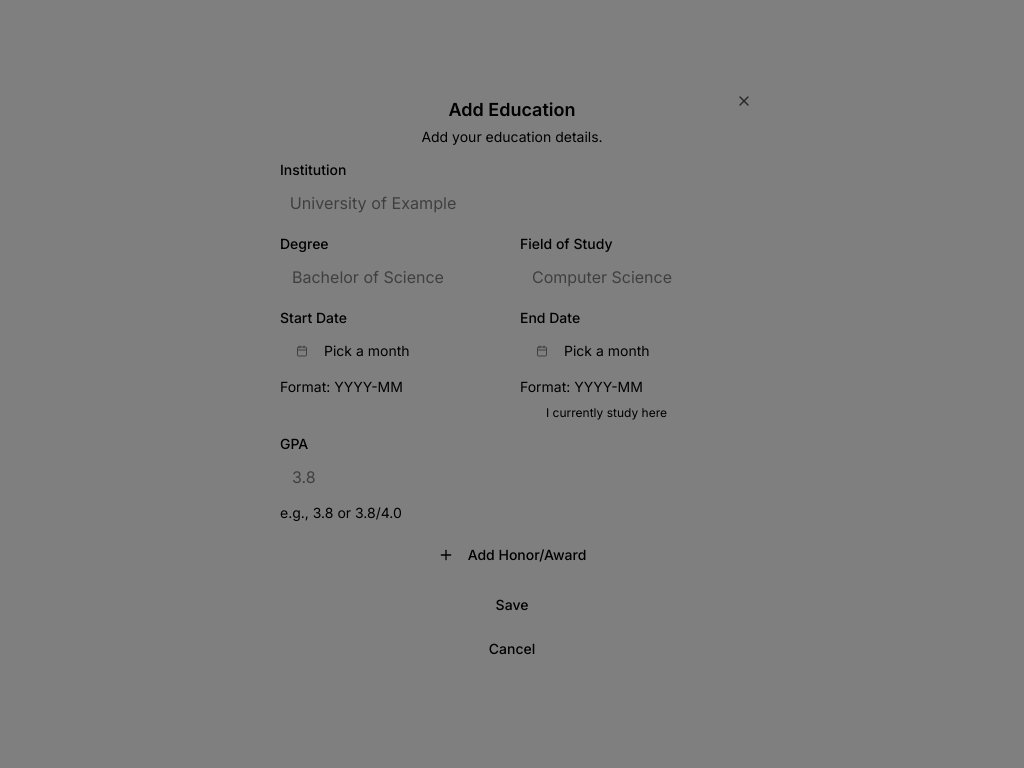
EducationFormDialog › Honors Management › allows adding multiple honors
Click the button "Add Honor/Award" at (512, 555), box [280, 539, 744, 571]
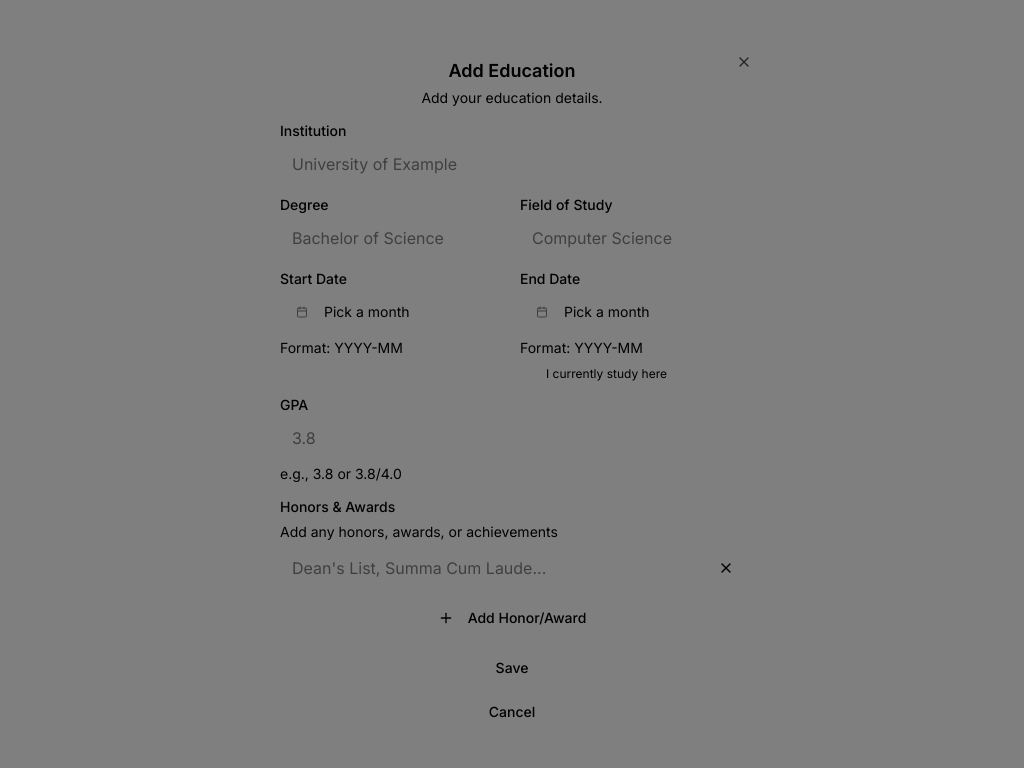
Click the button "Add Honor/Award" at (512, 618), box [280, 602, 744, 634]
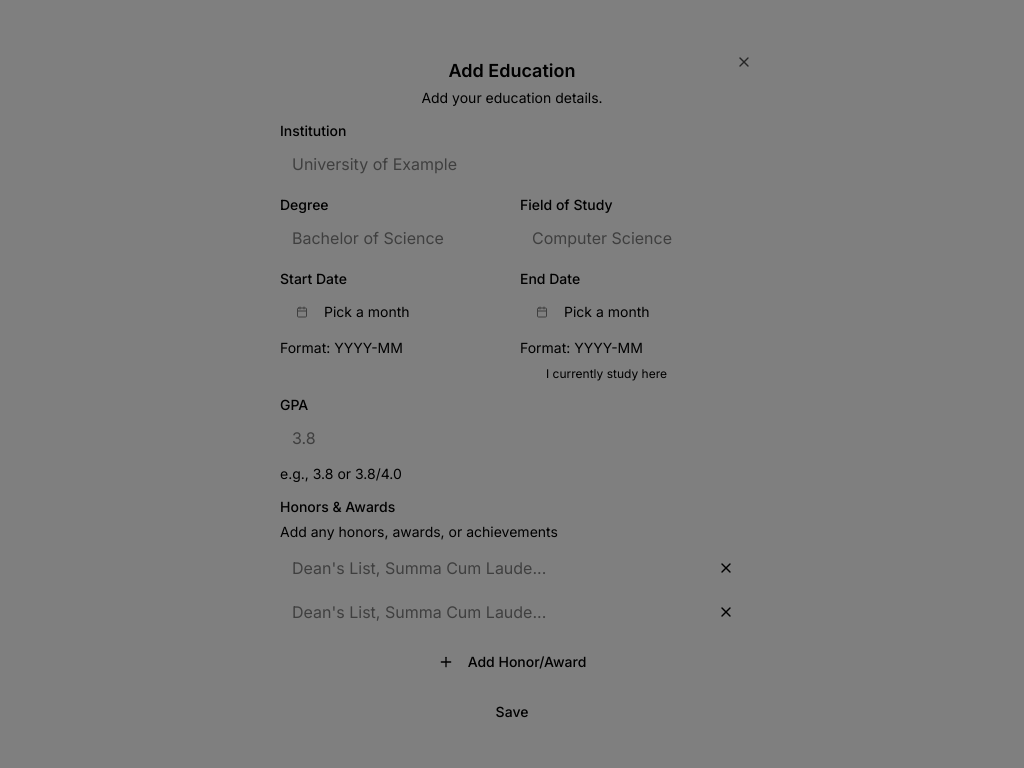
Click the button "Add Honor/Award" at (512, 662), box [280, 646, 744, 678]
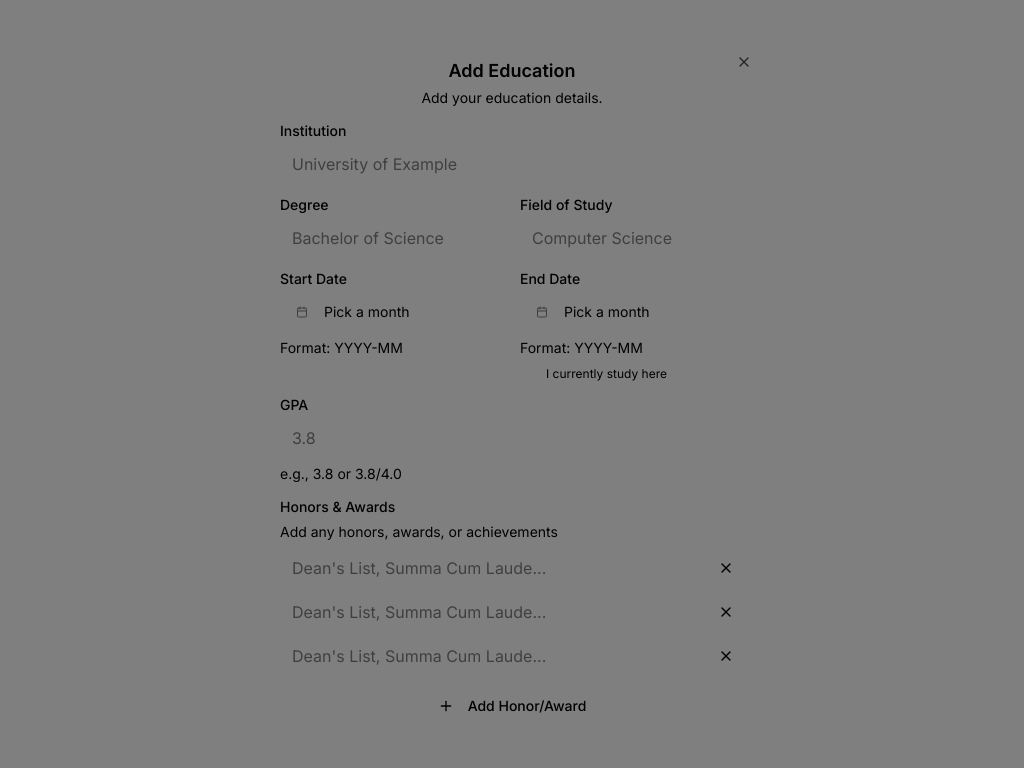
Now the number of fields with placeholder "Dean's List, Summa Cum Laude..." is 3, box [280, 550, 700, 586]; [280, 594, 700, 630]; [280, 638, 700, 674]
